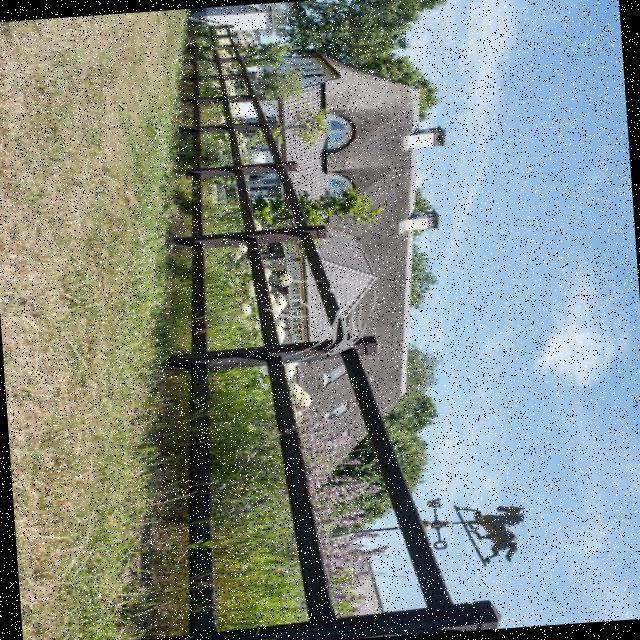fence line: (108, 326, 438, 639), (139, 149, 328, 398), (168, 24, 264, 176)
